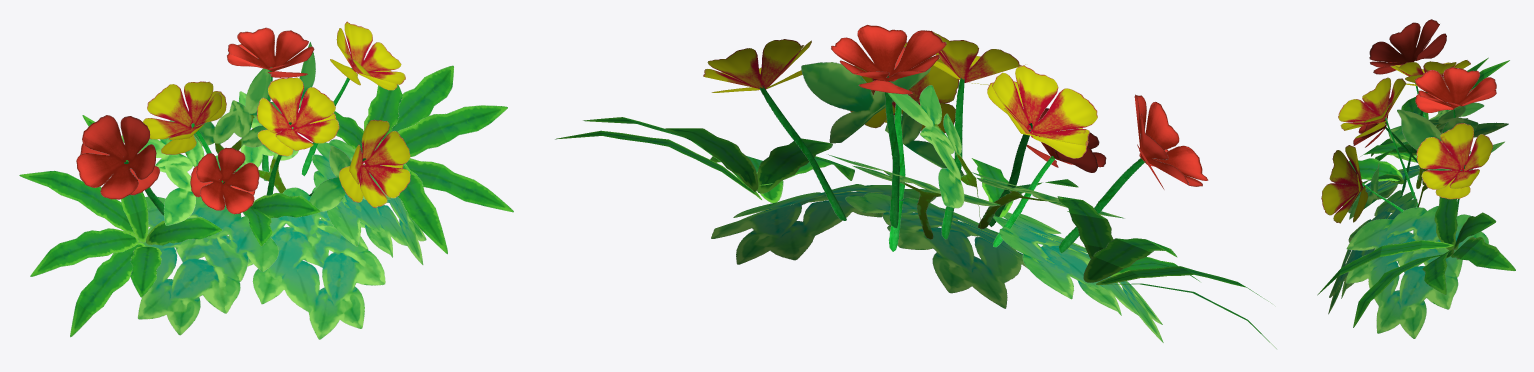
The model's file is Flower_01_a.fbx.
3 views of the same model, side by side, from view 1: azimuth 30°, elevation 25°; view 2: azimuth 150°, elevation 25°; view 3: azimuth 270°, elevation 25° (orthographic). The views are drawn at different scales.
Visible parts, largest first — view 1: Flower_01_a; view 2: Flower_01_a; view 3: Flower_01_a.
Boxes of the visible parts, x1,y1,x2,y2 form: Flower_01_a: (19, 21, 513, 339); Flower_01_a: (555, 24, 1276, 348); Flower_01_a: (1317, 19, 1515, 338).
Size of the model in its own units: 145 by 71.28 by 55.27.
